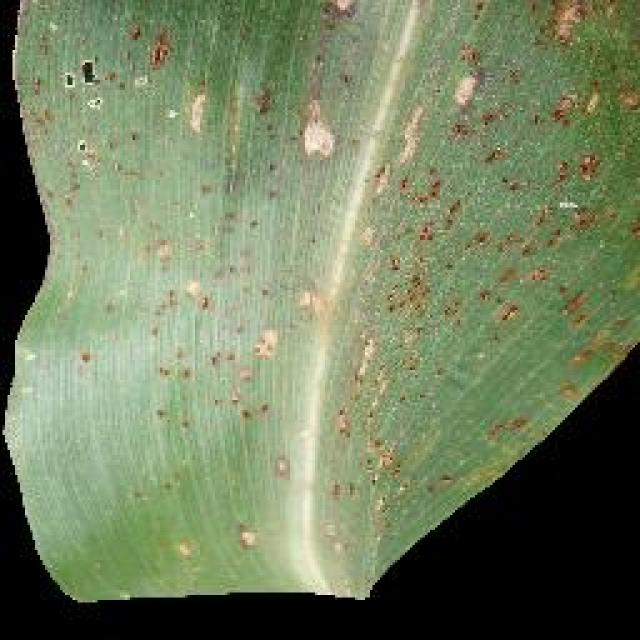Corn Common Rust: (157, 156, 588, 556)
